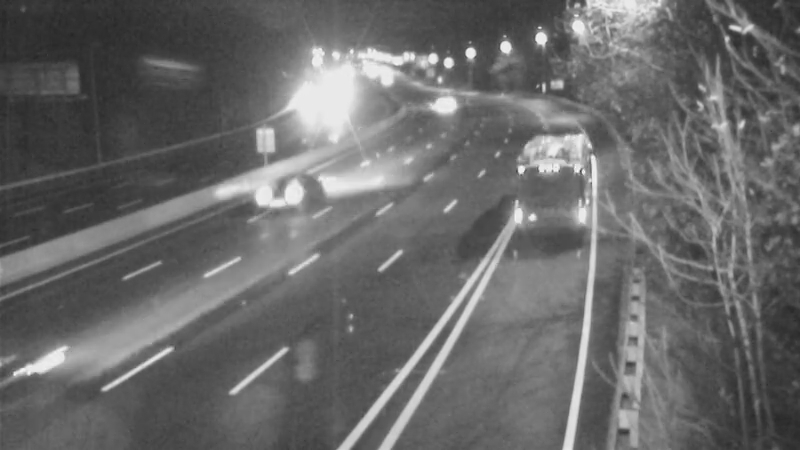vehicle: (498, 134, 578, 214), (243, 158, 323, 238), (417, 79, 467, 129)
